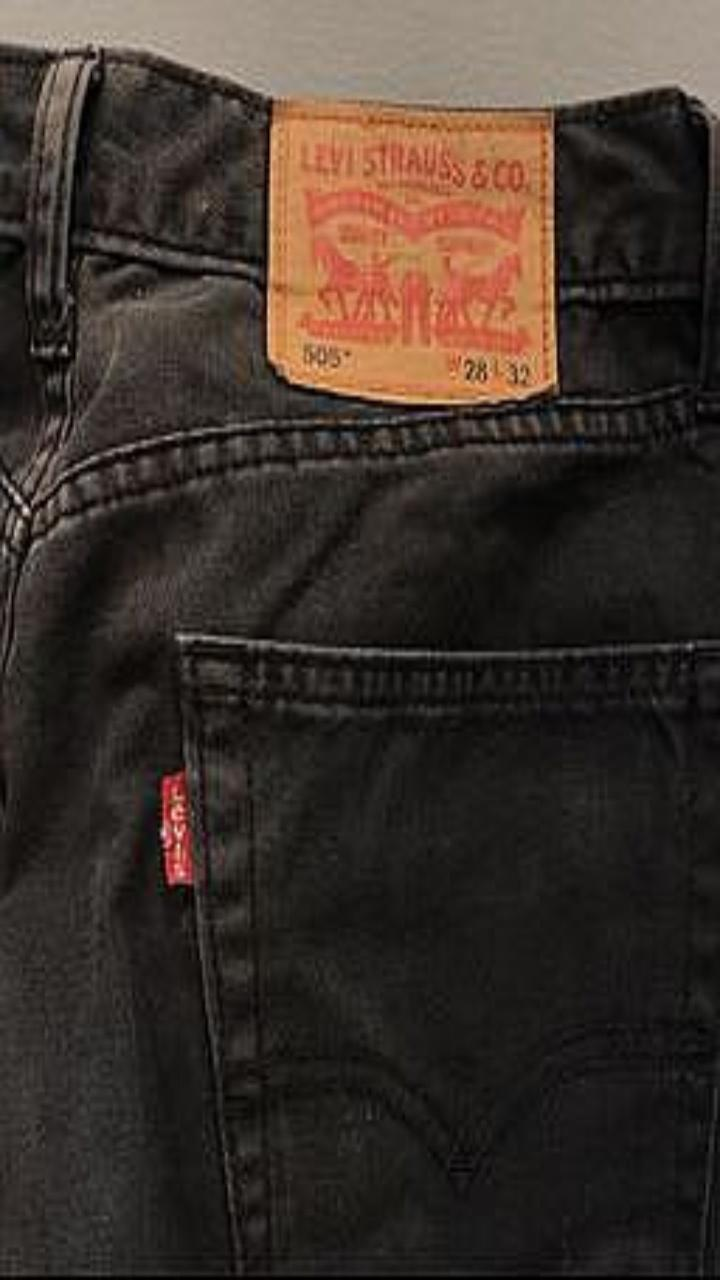Jeans: (0, 46, 719, 1274)
